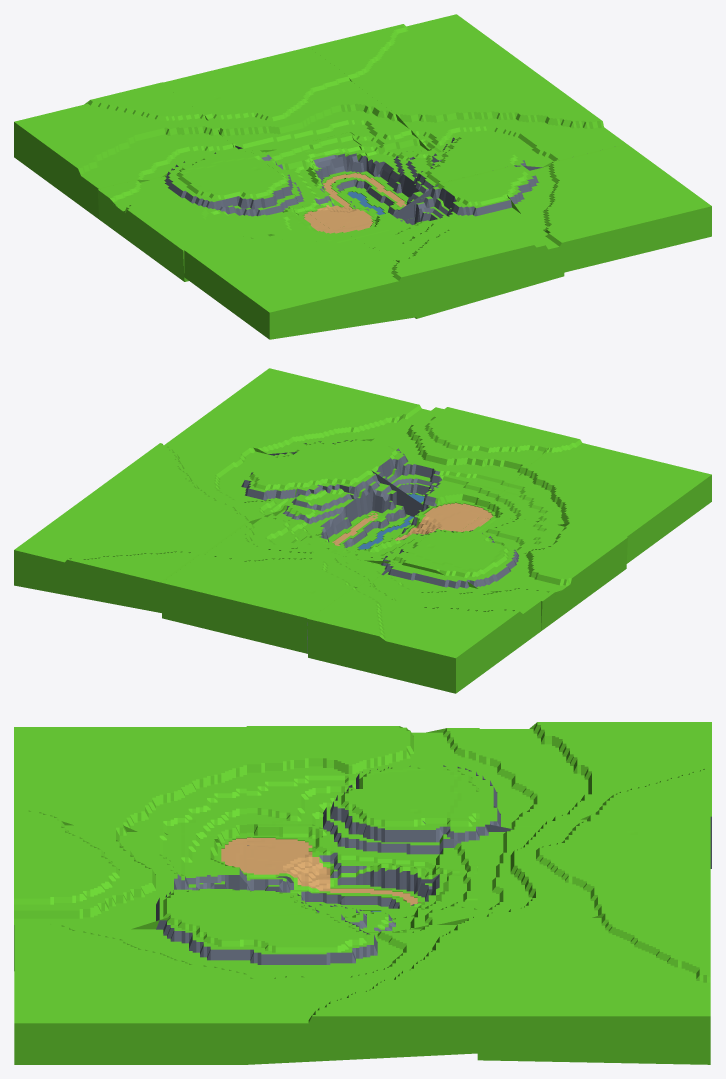
Rendered from Level One Valley Terrain Map Colored (fbx) 1.fbx.
3 views of the same model, one above another, from view 1: azimuth 30°, elevation 25°; view 2: azimuth 150°, elevation 25°; view 3: azimuth 270°, elevation 25° (orthographic). The views are drawn at different scales.
Visible parts, largest first — view 1: Cube.001; view 2: Cube.001; view 3: Cube.001.
Boxes of the visible parts, bbox=[...] form: Cube.001: bbox=[14, 14, 711, 339]; Cube.001: bbox=[14, 368, 711, 693]; Cube.001: bbox=[14, 722, 711, 1064].
Bounding box in the file's own units: 18001 × 2368 × 17979.
